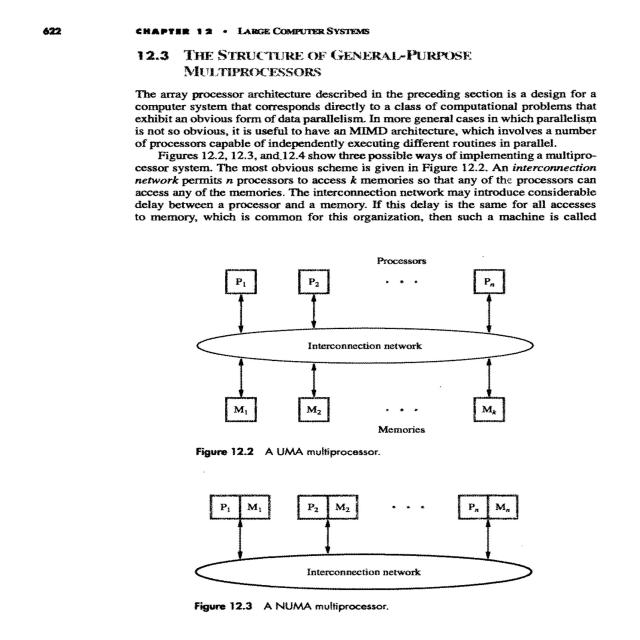diagram: (149, 240, 547, 638)
